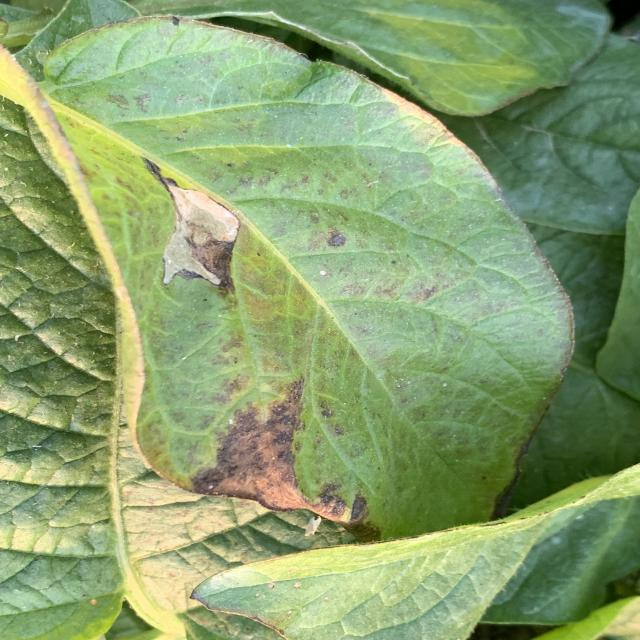lateblight: (190, 379, 380, 538), (142, 158, 240, 289)
